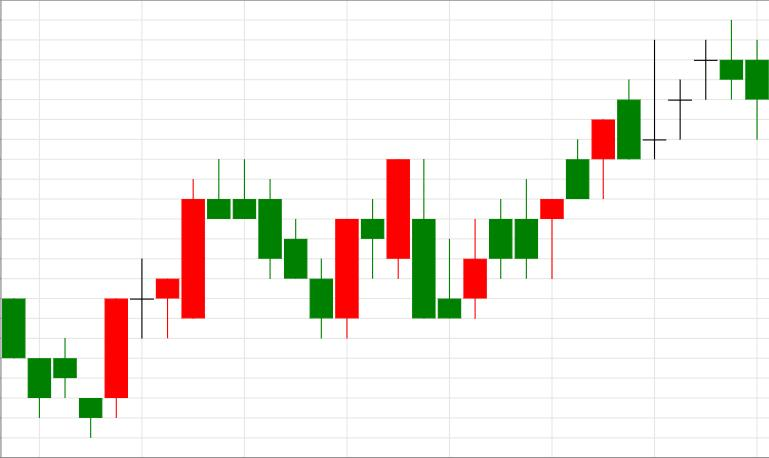bullish_engulfing_rise: (208, 159, 359, 338)
